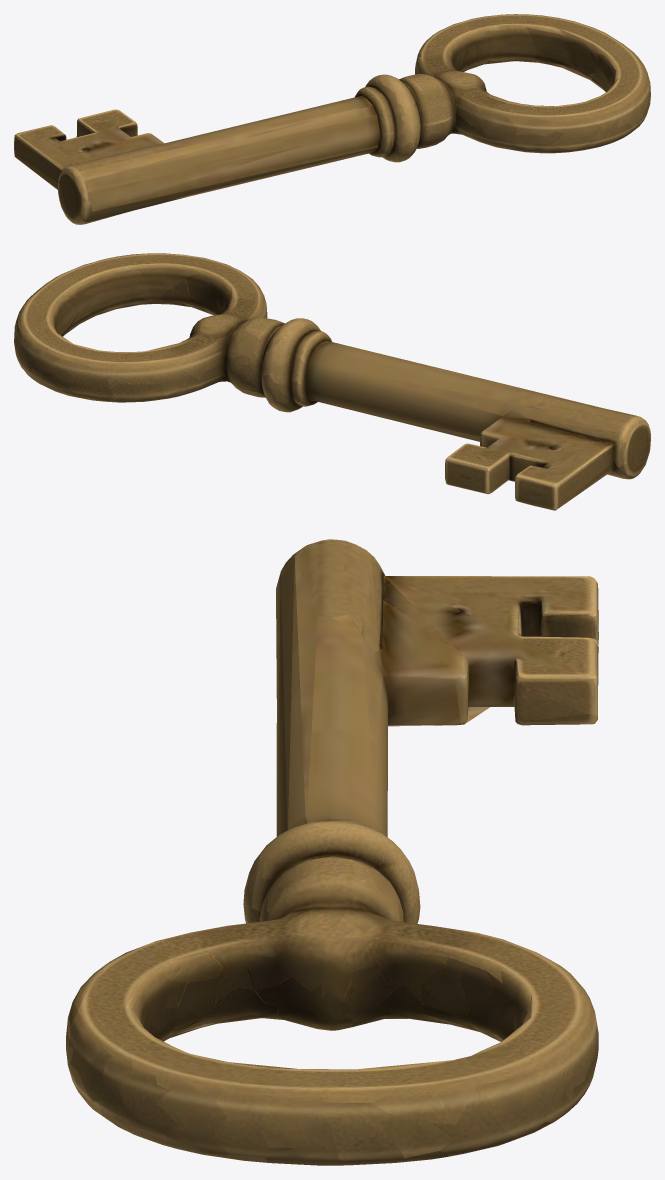
Rendered from key.glb.
3 renders of one model, top to bottom at view 1: azimuth 30°, elevation 25°; view 2: azimuth 150°, elevation 25°; view 3: azimuth 270°, elevation 25°, orthographic. The views are drawn at different scales.
Parts seen in each view (by area): view 1: output_unwrapped; view 2: output_unwrapped; view 3: output_unwrapped.
Boxes of the visible parts, left/top/right/bottom form: output_unwrapped: left=14, top=14, right=650, bottom=224; output_unwrapped: left=14, top=253, right=650, bottom=510; output_unwrapped: left=66, top=539, right=598, bottom=1165.
Size of the model in its own units: 1.9 by 0.2593 by 0.7841.
Materials: 1 (1 with a texture image).
